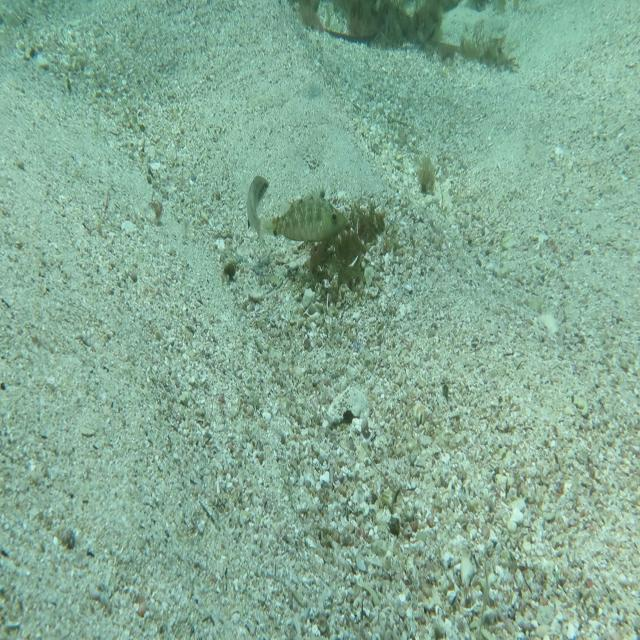ROLL: (260, 181, 352, 246)
female: (240, 173, 279, 247)
nest: (283, 168, 386, 304)
